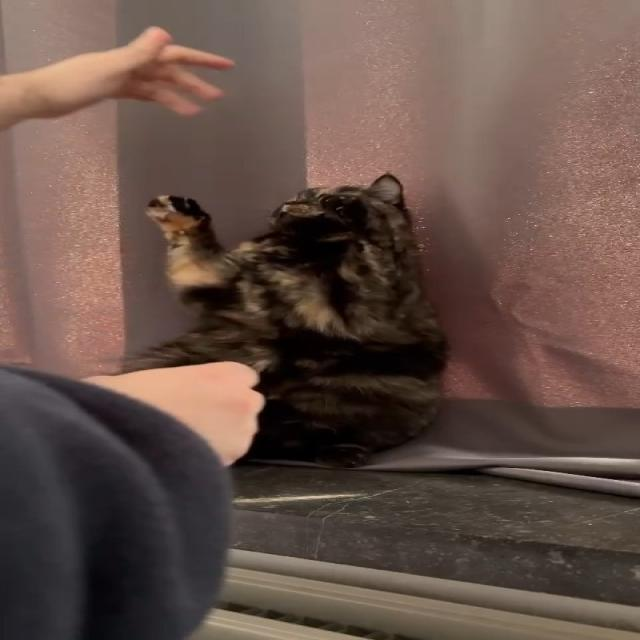authorized: (114, 171, 450, 469)
